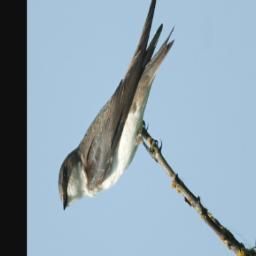Swallow: (52, 0, 181, 212)
